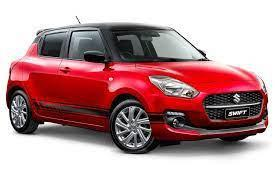Hatchback: (7, 22, 271, 153)
